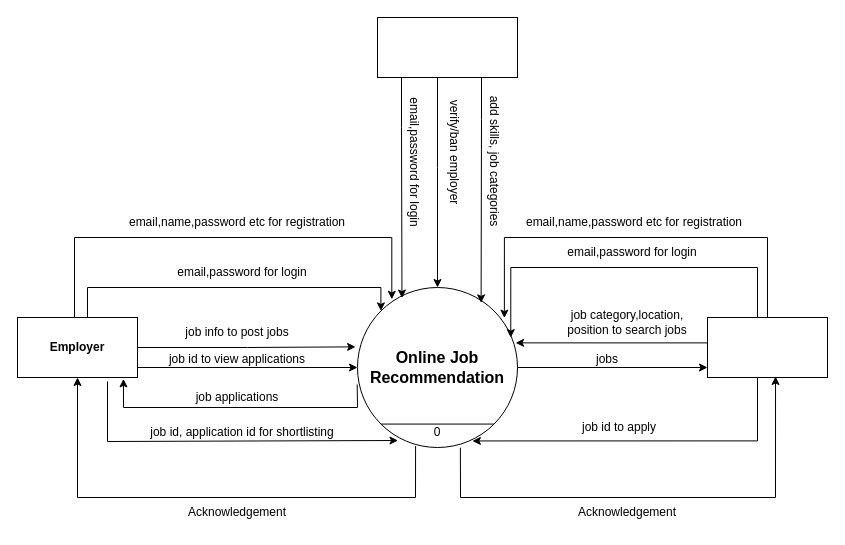
Image size: 845x545. Some labels were removed from this diagram. Here are the shapes that lost their labels. From the top down, the centre of each, then its label:
At (447,47): "Admin".
At (767,347): "Job Seeker".
